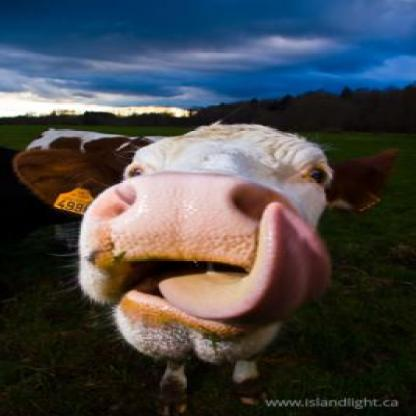lower: (163, 316, 217, 344)
mouth: (84, 172, 302, 361)
upper: (161, 192, 197, 215)
